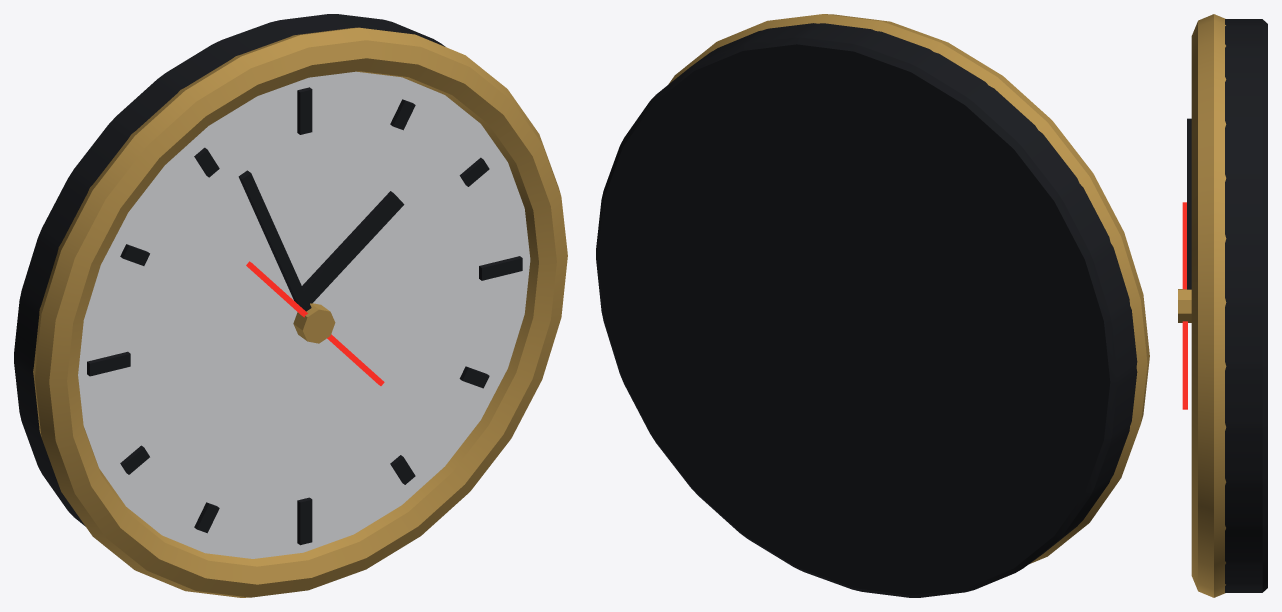
The model's file is display_chronometer_clock.glb.
The picture shows the model from 3 angles, left to right: view 1: azimuth 30°, elevation 25°; view 2: azimuth 150°, elevation 25°; view 3: azimuth 270°, elevation 25°; orthographic projection. The views are drawn at different scales.
Parts seen in each view (by area): view 1: display_chronometer_clock; view 2: display_chronometer_clock; view 3: display_chronometer_clock.
Boxes of the visible parts, <box> form: display_chronometer_clock: <box>14,14,567,597</box>; display_chronometer_clock: <box>596,14,1149,597</box>; display_chronometer_clock: <box>1178,14,1267,597</box>.
Bounding box in the file's own units: 0.65 × 0.65 × 0.1.
